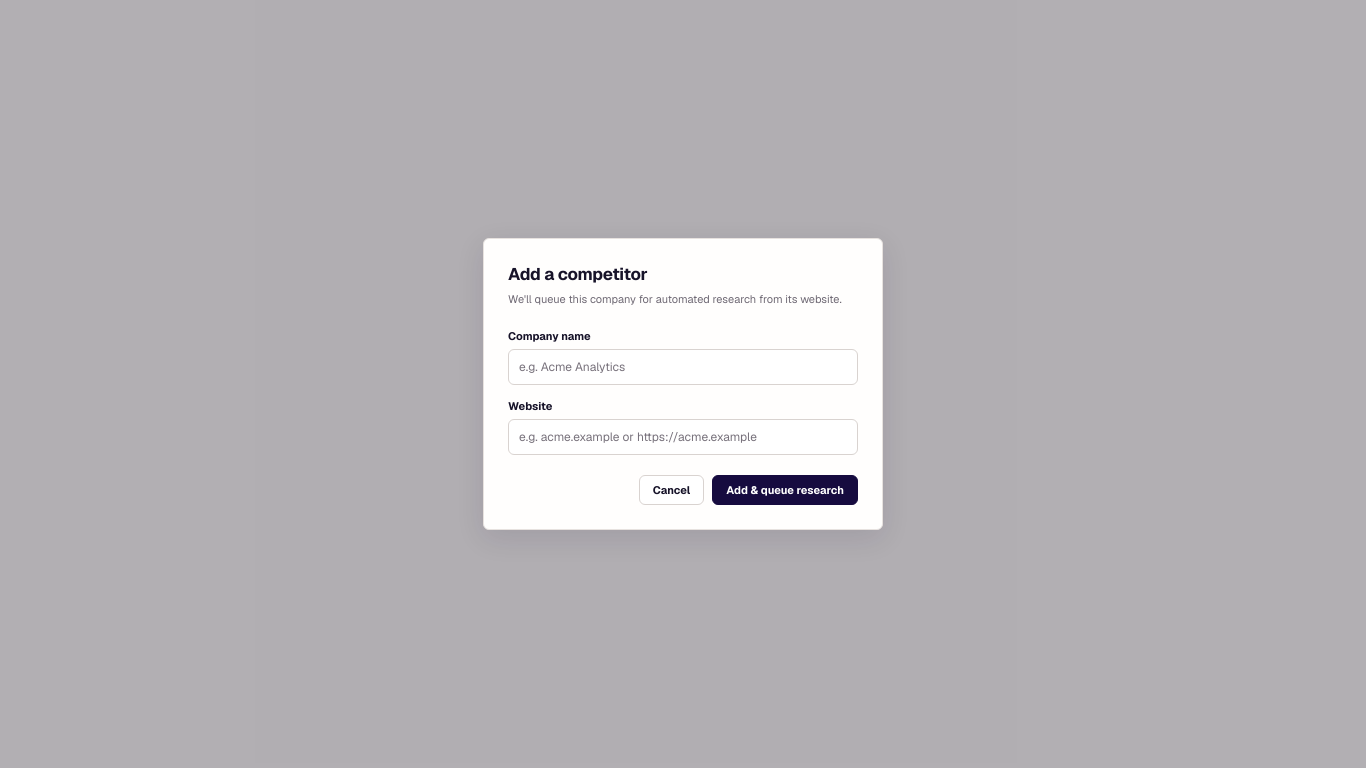
AddCompetitorModal › hides server internals behind a friendly message
The width and height of the screenshot is (1366, 768).
Type "Acme" into the field labelled "Company name" at (683, 367), box [508,349,858,385]
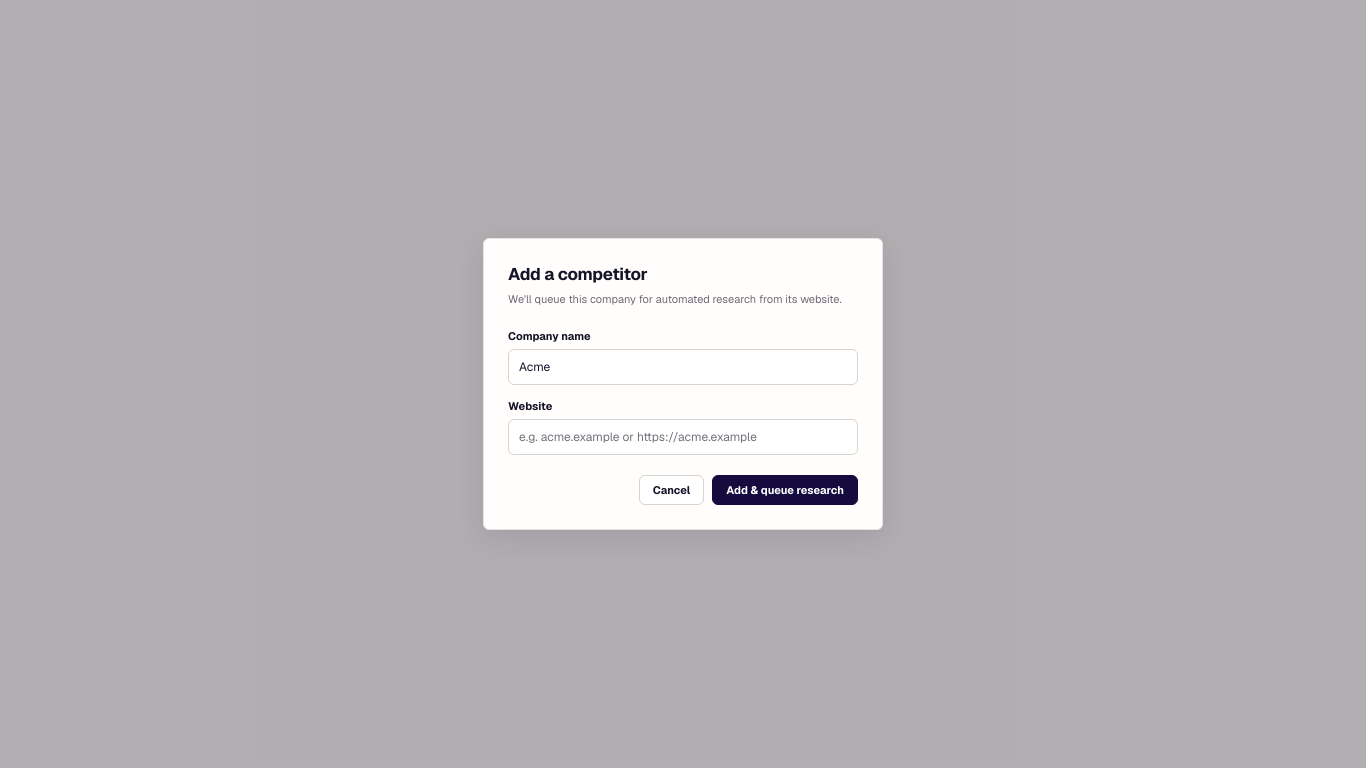
Type "acme.example" into the field labelled "Website" at (683, 437), box [508,419,858,455]
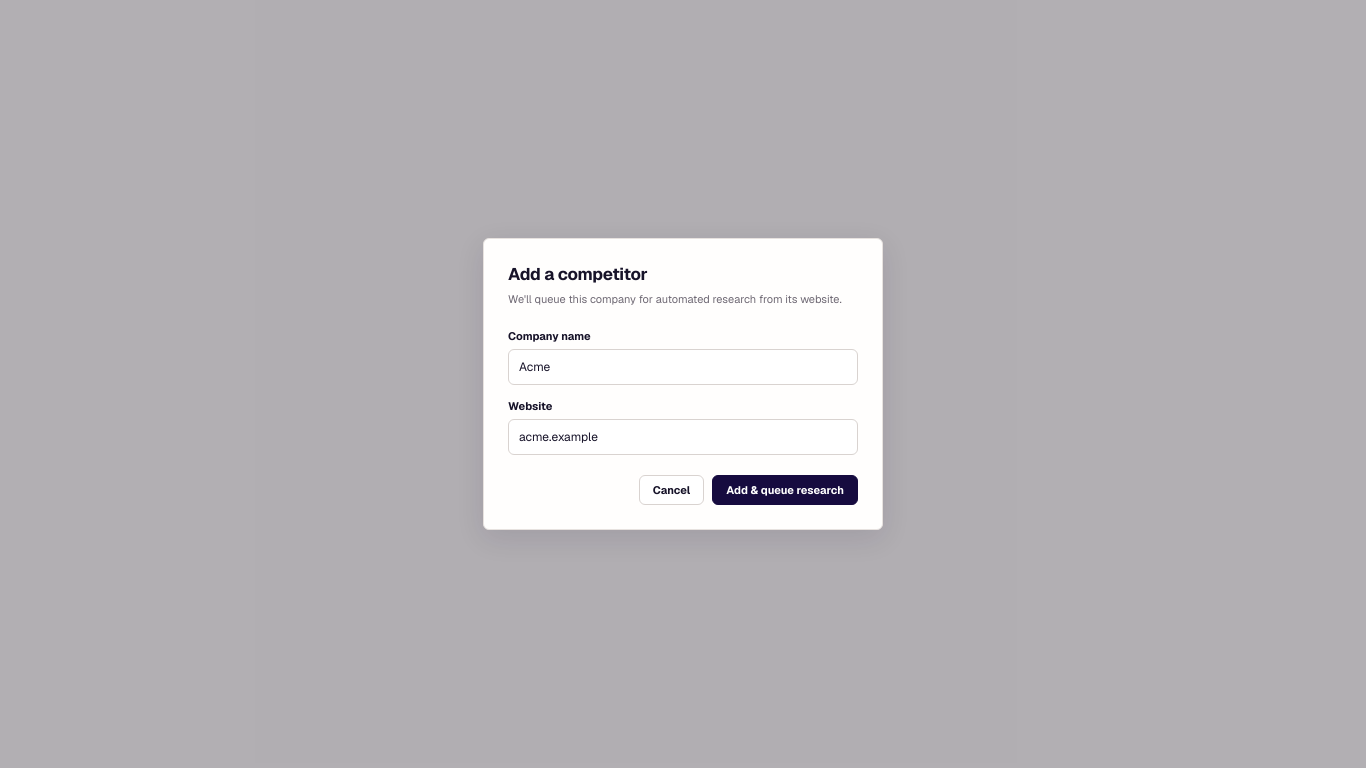
Click the button "Add & queue research" at (785, 490), box [712,475,858,505]
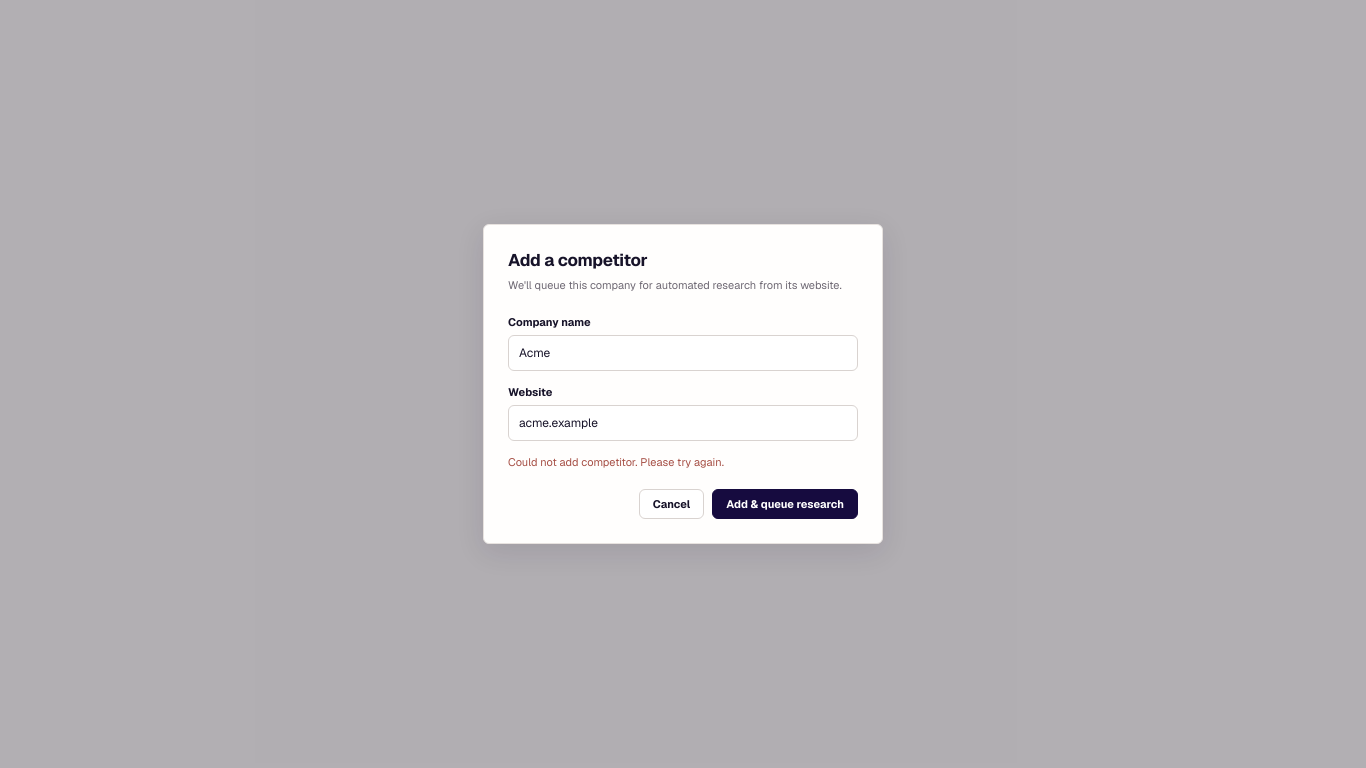
Check: the text "Could not add competitor. Please try again." is shown, box [508,455,724,469]
